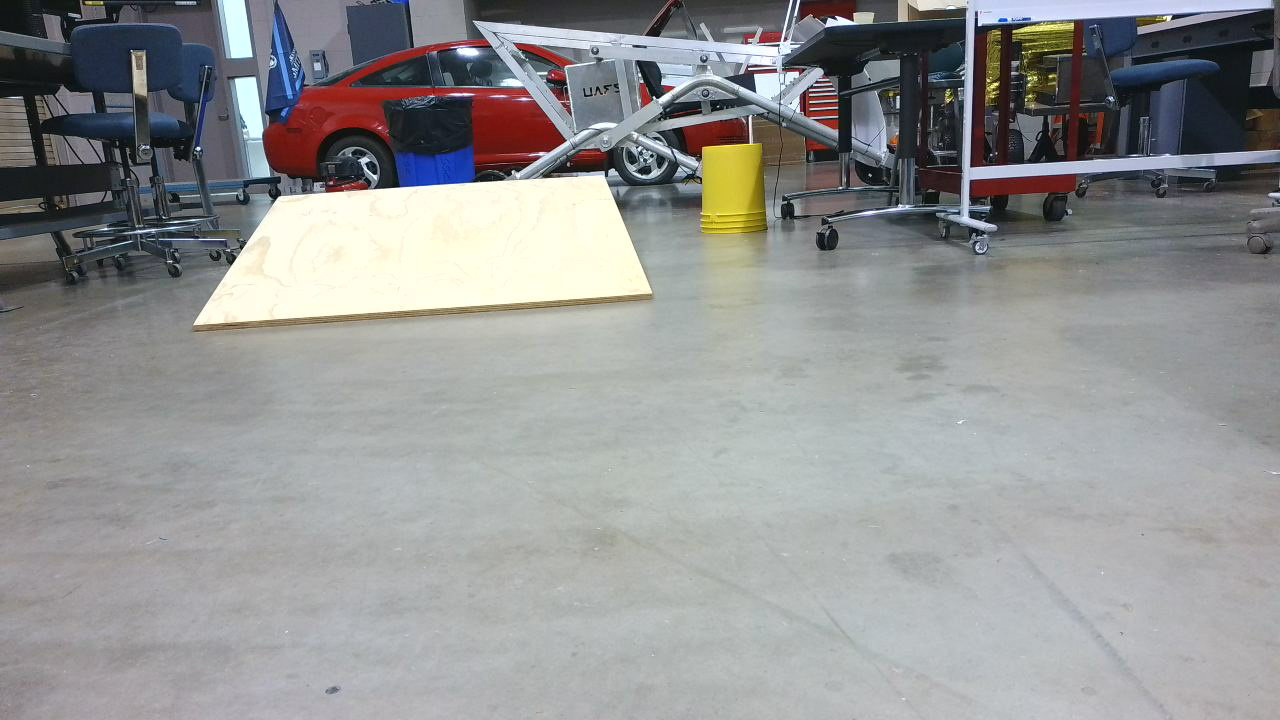concrete_block: (192, 174, 659, 336)
yellow_bucket: (698, 145, 771, 238)
